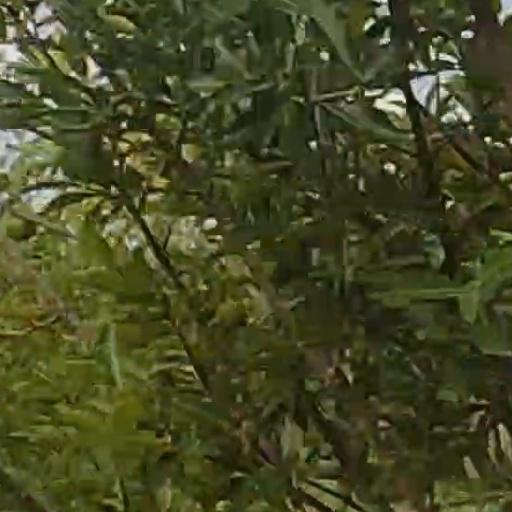acerola_verde: (8, 218, 34, 239)
